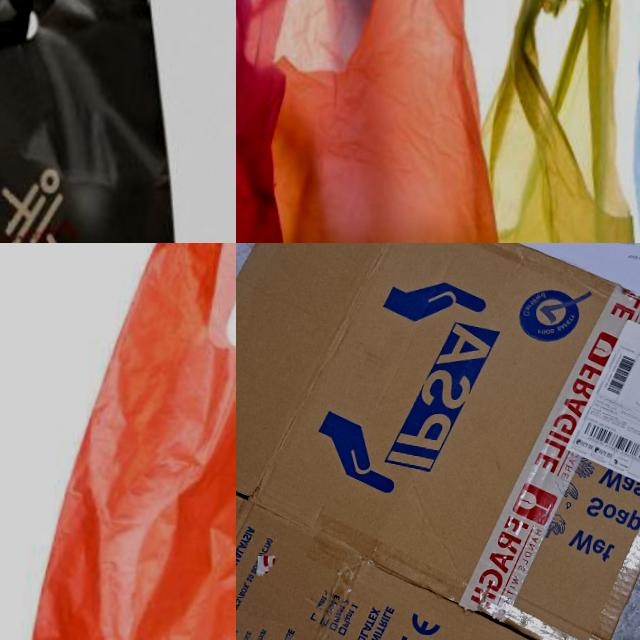papel: (319, 243, 640, 303), (236, 243, 331, 331)
papelão: (236, 243, 640, 640)
sacola plástica: (5, 243, 236, 640), (259, 0, 523, 243), (0, 0, 206, 243), (481, 0, 640, 243), (236, 0, 324, 243)
